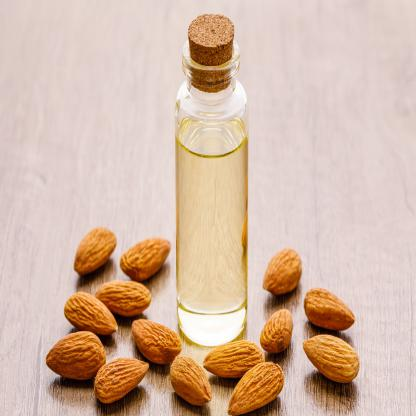almond: (227, 361, 284, 416), (46, 330, 106, 380), (304, 334, 359, 383), (94, 358, 150, 405), (303, 285, 355, 333), (203, 339, 264, 379), (132, 317, 182, 364), (118, 235, 170, 280), (64, 290, 118, 333), (171, 355, 213, 409), (95, 279, 153, 317), (262, 247, 303, 297), (74, 226, 117, 273), (260, 307, 294, 353)
